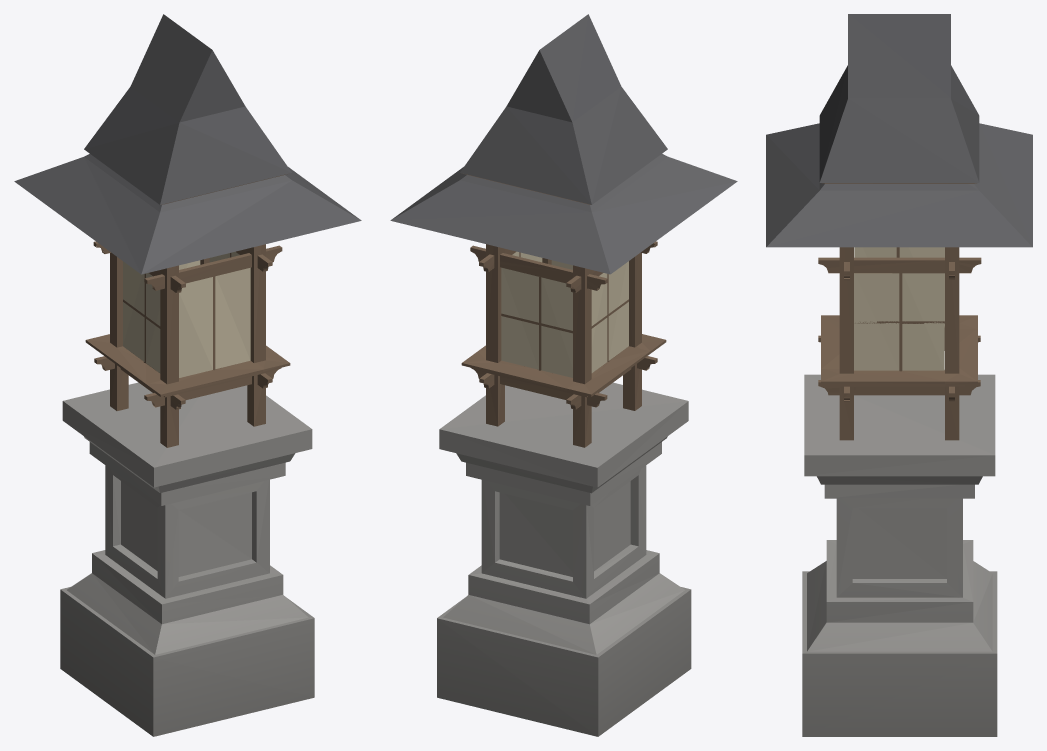
Rendered from cn_lamp_1.glb.
The picture shows the model from 3 angles, left to right: view 1: azimuth 30°, elevation 25°; view 2: azimuth 150°, elevation 25°; view 3: azimuth 270°, elevation 25°; orthographic projection. The views are drawn at different scales.
Parts seen in each view (by area): view 1: cn_lamp_1; view 2: cn_lamp_1; view 3: cn_lamp_1.
Part boxes in pixels (<box>): cn_lamp_1: <box>14,14,361,736</box>; cn_lamp_1: <box>390,14,737,736</box>; cn_lamp_1: <box>766,14,1032,736</box>.
Size of the model in its own units: 0.8152 by 2.3 by 0.8152.
